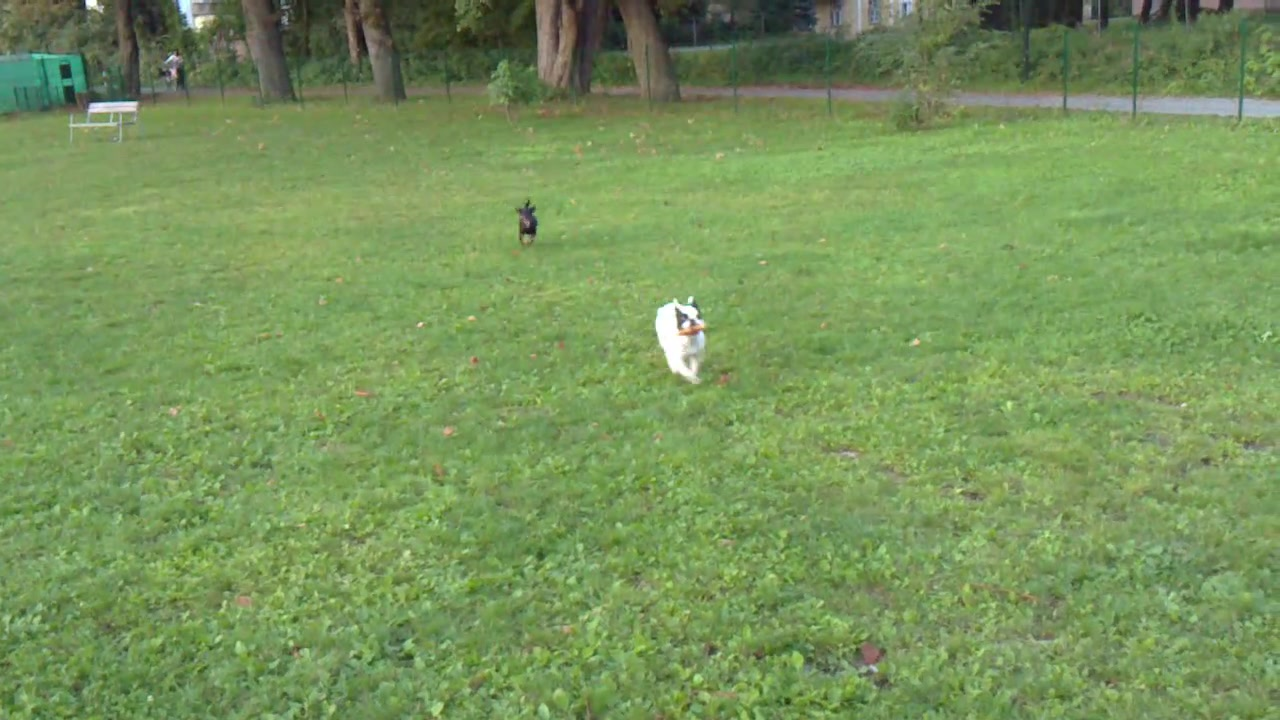dog: (650, 293, 713, 387), (513, 200, 542, 245)
